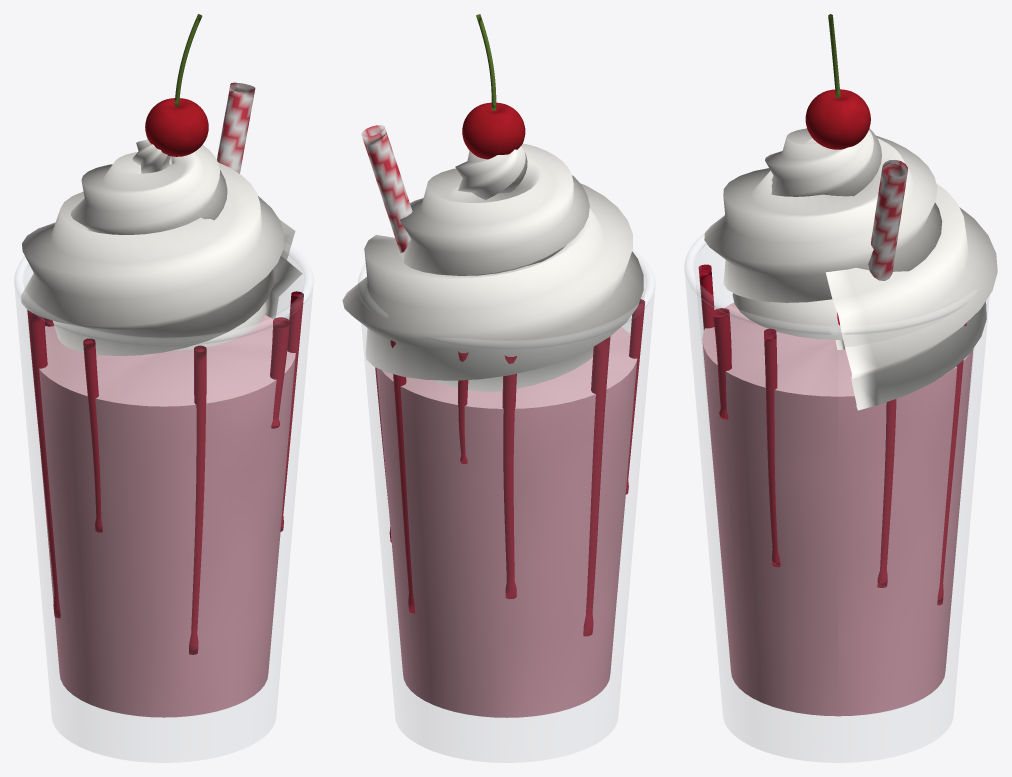
Rendered from milkshake-300.glb.
The picture shows the model from 3 angles, left to right: view 1: azimuth 30°, elevation 25°; view 2: azimuth 150°, elevation 25°; view 3: azimuth 270°, elevation 25°; orthographic projection. The views are drawn at different scales.
Visible parts, largest first — view 1: copo, liquido_0_morango, chantilly, calda_copo, cereja, canudo; view 2: copo, liquido_0_morango, chantilly, calda_copo, cereja, canudo; view 3: copo, liquido_0_morango, chantilly, calda_copo, cereja, canudo.
Part boxes in pixels (x1=…): copo: x1=14, y1=242, x2=313, y2=762; liquido_0_morango: x1=39, y1=315, x2=295, y2=717; chantilly: x1=21, y1=139, x2=302, y2=355; calda_copo: x1=27, y1=291, x2=303, y2=654; cereja: x1=145, y1=14, x2=208, y2=156; canudo: x1=217, y1=82, x2=255, y2=173; copo: x1=358, y1=250, x2=654, y2=762; liquido_0_morango: x1=376, y1=327, x2=637, y2=717; chantilly: x1=342, y1=143, x2=643, y2=392; calda_copo: x1=375, y1=299, x2=645, y2=636; cereja: x1=462, y1=14, x2=525, y2=159; canudo: x1=361, y1=125, x2=412, y2=253; copo: x1=684, y1=234, x2=988, y2=762; liquido_0_morango: x1=702, y1=302, x2=973, y2=716; chantilly: x1=704, y1=128, x2=997, y2=410; calda_copo: x1=698, y1=264, x2=966, y2=605; cereja: x1=805, y1=14, x2=870, y2=149; canudo: x1=868, y1=160, x2=907, y2=280.
Bounding box in the file's own units: 0.0848 × 0.205 × 0.0814.
